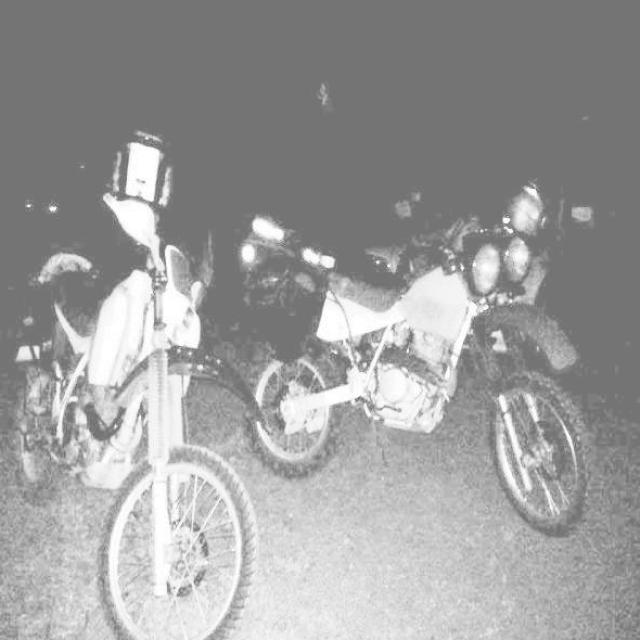Motorcycle: (233, 188, 620, 556), (2, 158, 238, 640)
